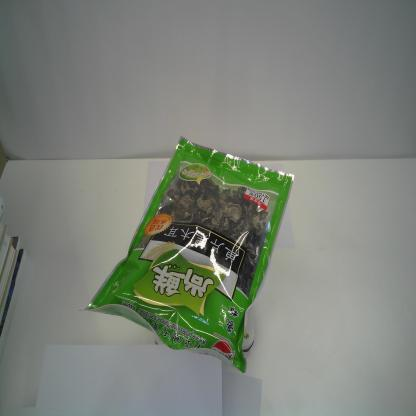Dried Food: (77, 136, 295, 372)
